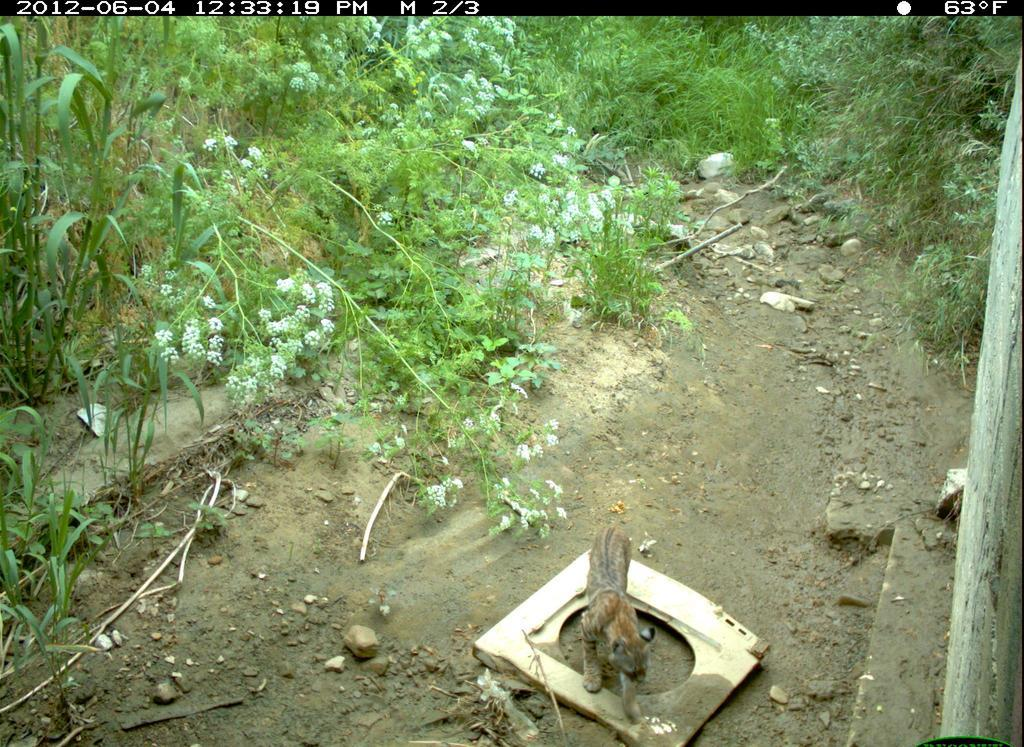bobcat: (577, 518, 662, 733)
